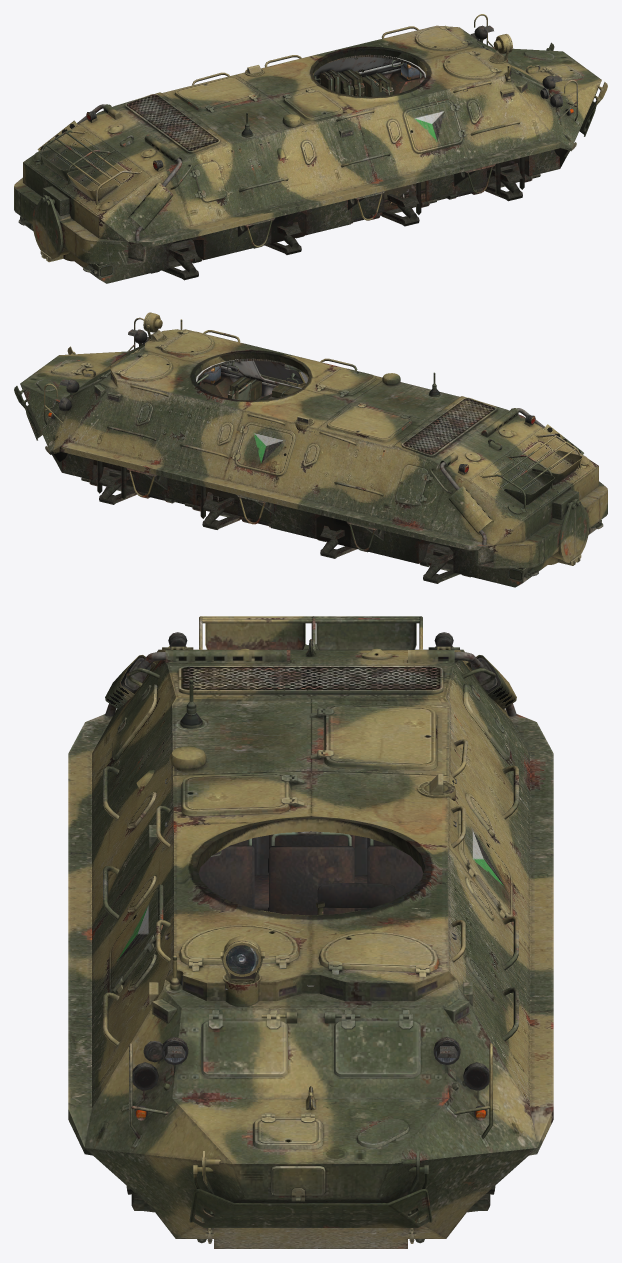
The model's file is btr60pb_hull.obj.
3 views of the same model, one above another, from view 1: azimuth 30°, elevation 25°; view 2: azimuth 150°, elevation 25°; view 3: azimuth 270°, elevation 25° (orthographic). The views are drawn at different scales.
Visible parts, largest first — view 1: FrontHatchs1Mtl_Obj, Interior1Mtl_Obj, Interior21Mtl_Obj, InteriorParts1Mtl_Obj; view 2: FrontHatchs1Mtl_Obj, Interior1Mtl_Obj, Interior21Mtl_Obj, InteriorParts1Mtl_Obj; view 3: FrontHatchs1Mtl_Obj, Interior21Mtl_Obj, Interior1Mtl_Obj.
Part boxes in pixels (left/top/right/bottom): FrontHatchs1Mtl_Obj: left=14, top=14, right=607, bottom=278; Interior1Mtl_Obj: left=77, top=25, right=573, bottom=283; Interior21Mtl_Obj: left=271, top=54, right=567, bottom=243; InteriorParts1Mtl_Obj: left=319, top=57, right=505, bottom=96; FrontHatchs1Mtl_Obj: left=14, top=312, right=607, bottom=582; Interior1Mtl_Obj: left=48, top=329, right=544, bottom=587; Interior21Mtl_Obj: left=53, top=358, right=350, bottom=547; InteriorParts1Mtl_Obj: left=200, top=364, right=303, bottom=400; FrontHatchs1Mtl_Obj: left=68, top=616, right=553, bottom=1243; Interior21Mtl_Obj: left=165, top=778, right=456, bottom=989; Interior1Mtl_Obj: left=76, top=652, right=546, bottom=1248.
Bounding box in the file's own units: 39.72 × 10 × 15.5.
Materials: 5 (5 with a texture image).
